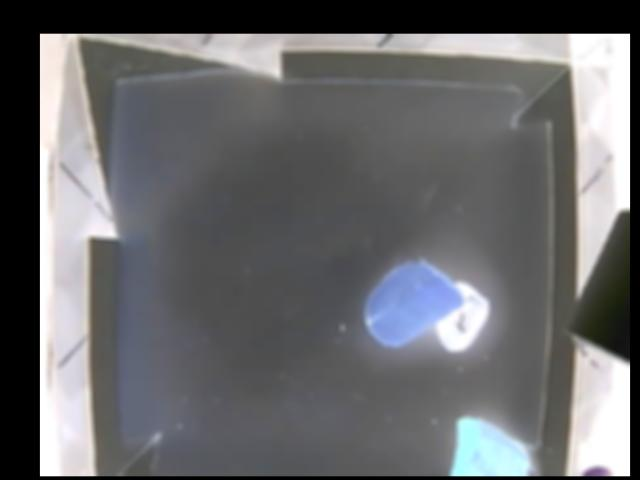Brisk: (449, 417, 528, 475)
Pebble: (437, 278, 488, 352)
Potato: (361, 262, 457, 347)
